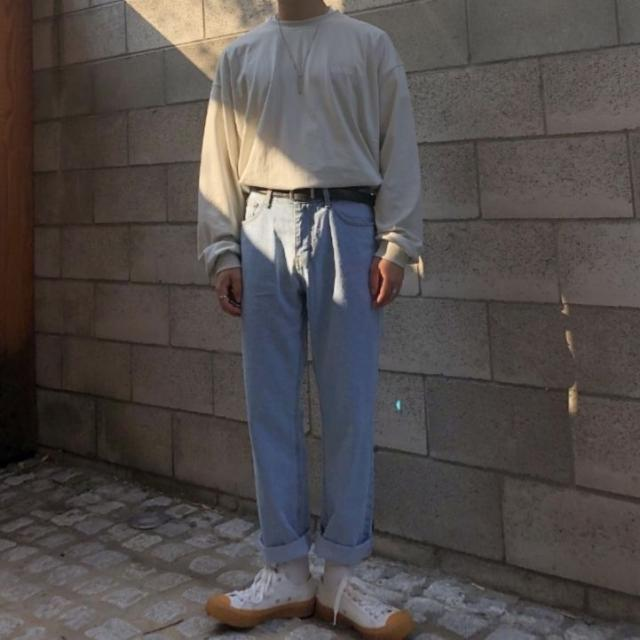denimpants: (240, 183, 380, 564)
longsleeve: (201, 8, 428, 280)
